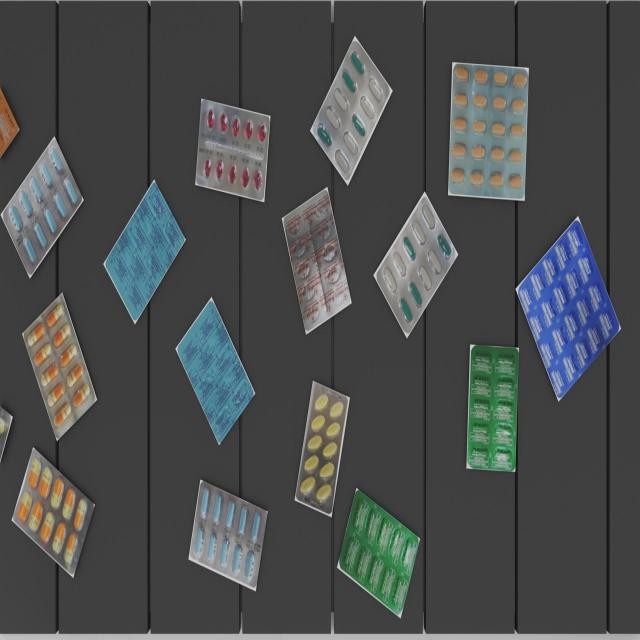blister: (518, 217, 619, 398), (449, 61, 531, 204), (176, 298, 253, 445), (313, 38, 390, 185), (106, 180, 185, 322), (2, 138, 81, 279), (377, 197, 456, 335), (12, 449, 92, 580), (339, 490, 421, 616), (24, 294, 94, 441), (284, 188, 352, 336), (188, 481, 268, 588), (194, 96, 273, 200), (465, 344, 520, 474), (298, 382, 348, 514)
